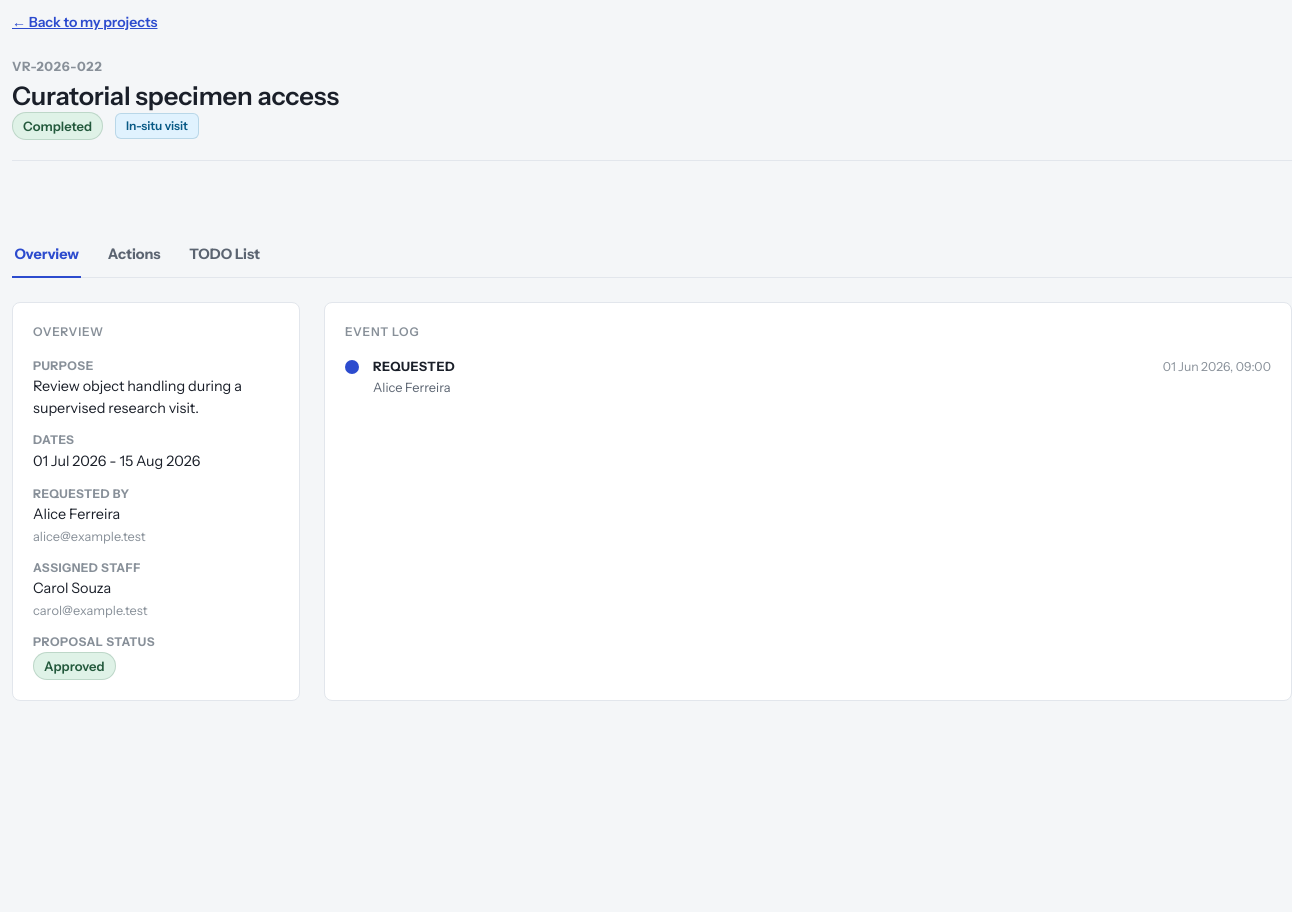
Test case: ProjectCuratorialDetailPageComponent › shows in-situ visit report creation for curatorial and collections groups
The width and height of the screenshot is (1292, 912).
Click the tab "Actions".
click(134, 255)  # box [105,233,163,278]
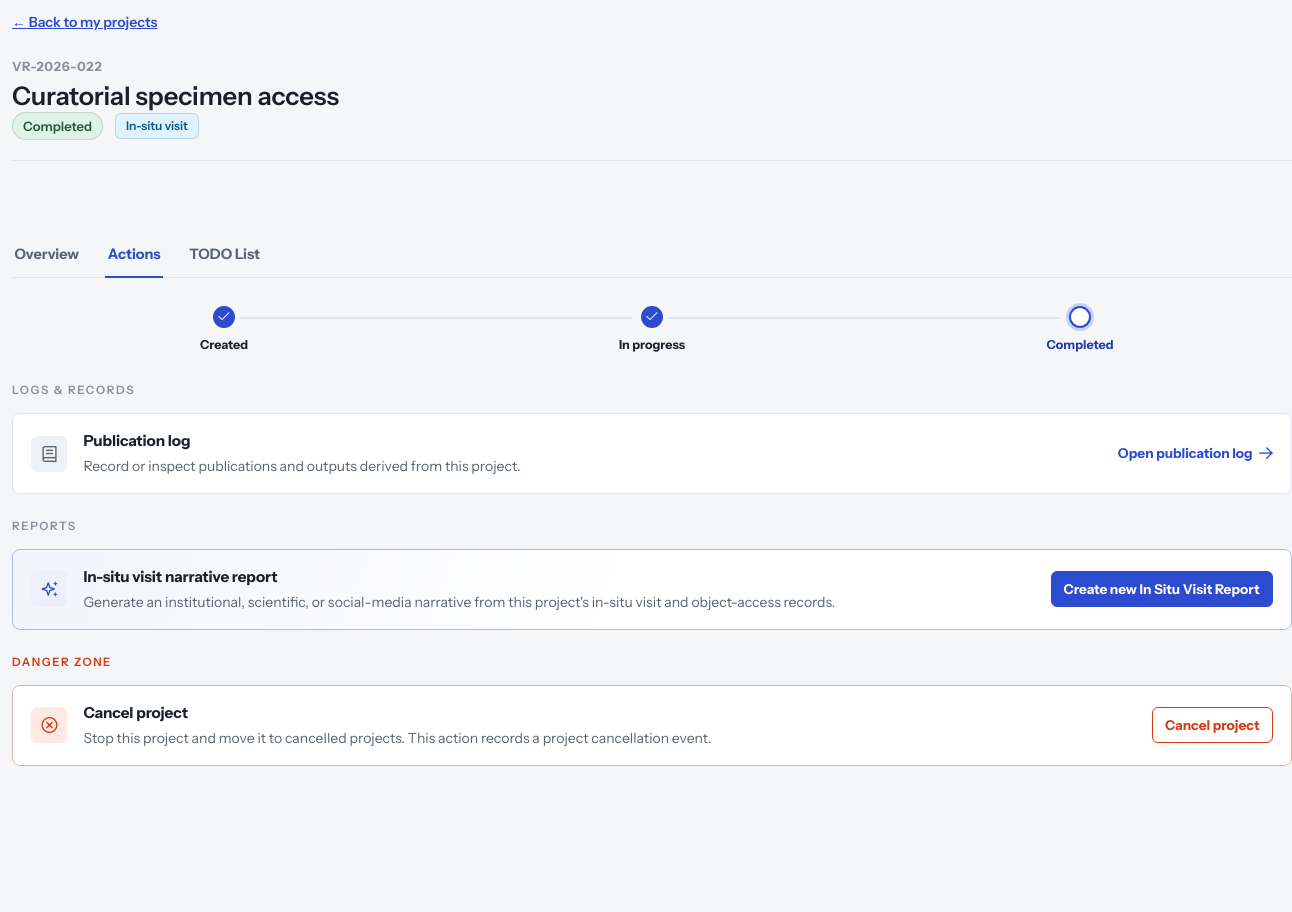
Expected: the text "Reports" is shown, [12,519,77,533]
Expected: the text "In-situ visit narrative report" is shown, [83,567,278,586]
Expected: the text "Create new In Situ Visit Report" is shown, [1050,572,1273,608]
